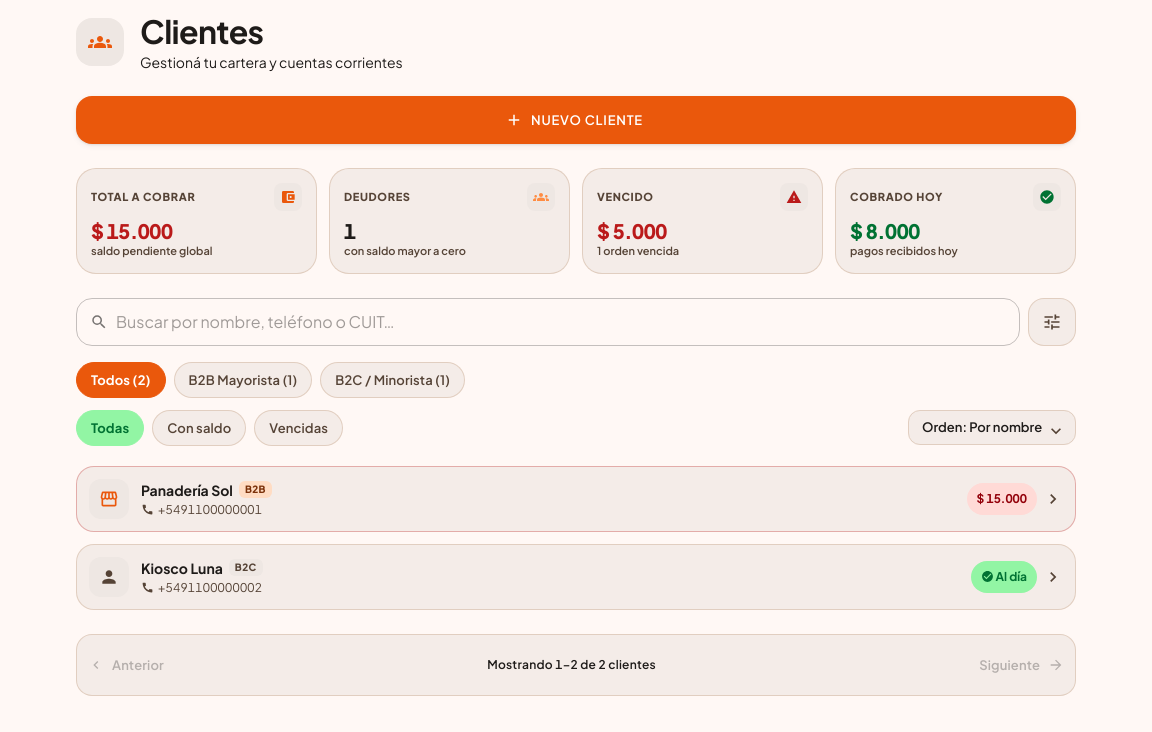
Test: CustomersPage — merged customer accounts › filters by "Con saldo" through the accounts endpoint
The image size is (1152, 732).
Check: the text "Kiosco Luna" is shown, box [141,558,223,578]
Click the button "Con saldo" at (199, 428), box [152,410,246,446]
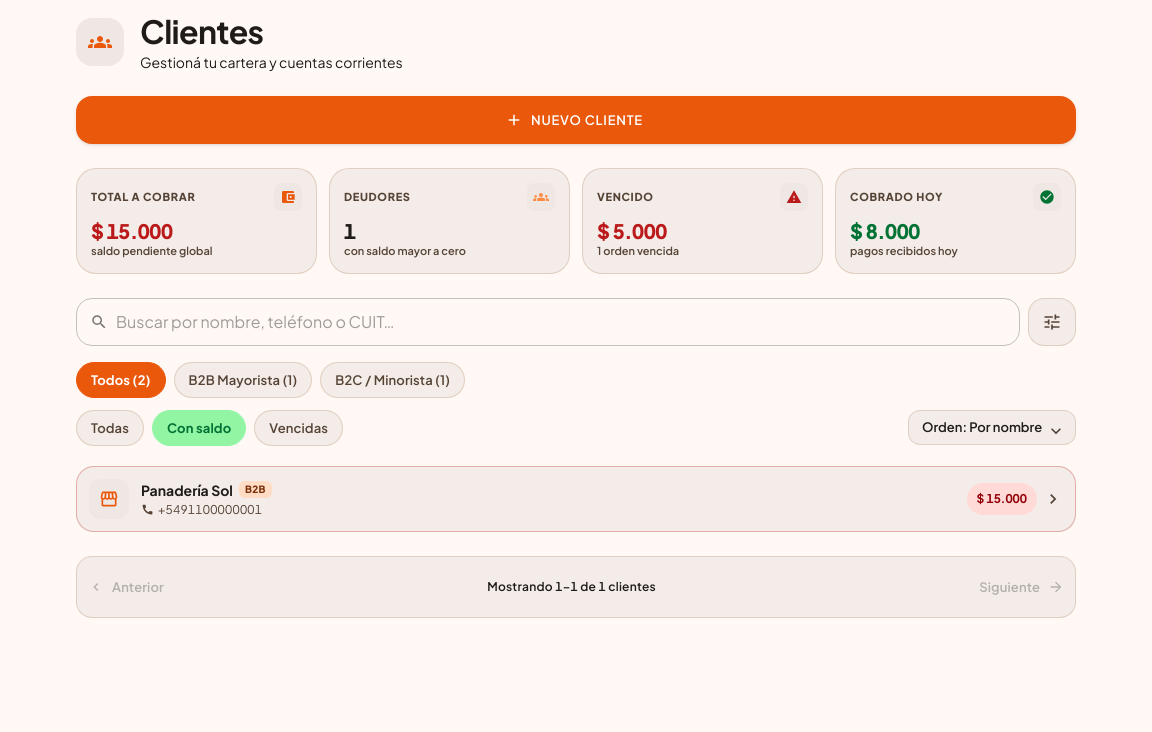
Check: the text "Panadería Sol" is shown, box [141,480,233,500]
Check: the button "Kiosco Luna" is gone
